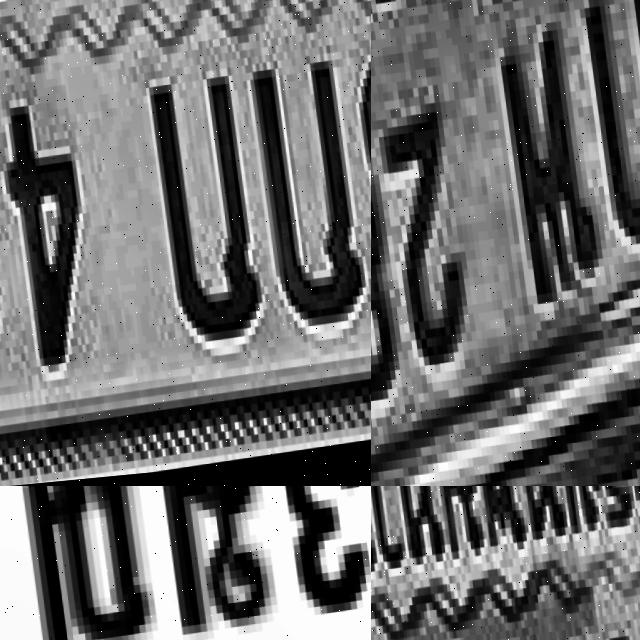license-plate: (0, 0, 371, 486), (371, 0, 640, 486), (0, 486, 371, 640), (371, 486, 640, 640)
